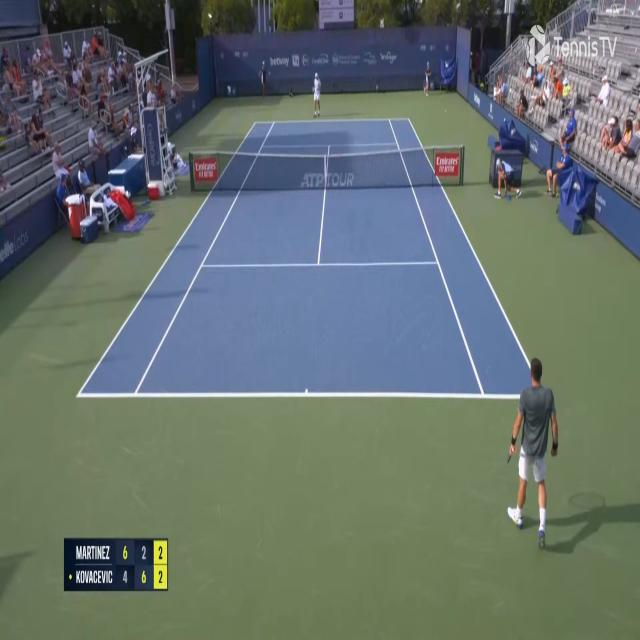tennis-player: (504, 355, 563, 549), (312, 71, 322, 118)
